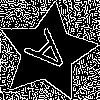A: (22, 28, 80, 84)
